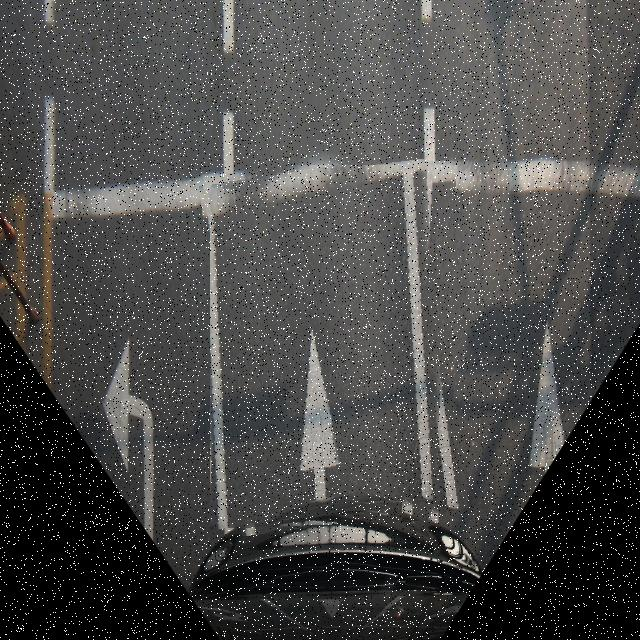forward: (210, 165, 458, 530)
